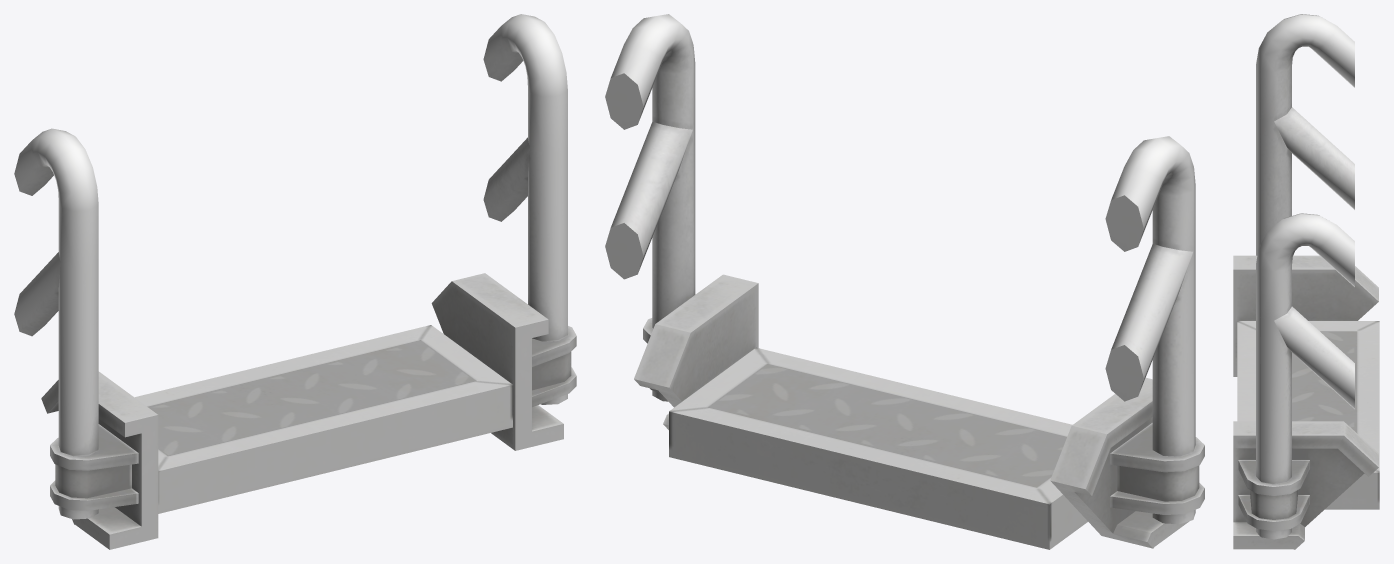
File: Pfb_Stairs_New__5.fbx
3 renders of one model, left to right at view 1: azimuth 30°, elevation 25°; view 2: azimuth 150°, elevation 25°; view 3: azimuth 270°, elevation 25°, orthographic. The views are drawn at different scales.
Visible parts, largest first — view 1: Mat_Stairs; view 2: Mat_Stairs; view 3: Mat_Stairs.
Part boxes in pixels (x1,y1,x2,y2): Mat_Stairs: [14, 14, 576, 549]; Mat_Stairs: [605, 14, 1204, 549]; Mat_Stairs: [1233, 14, 1379, 549].
Bounding box in the file's own units: 1.83 × 1.32 × 0.5162.
1 material, 1 textured.
